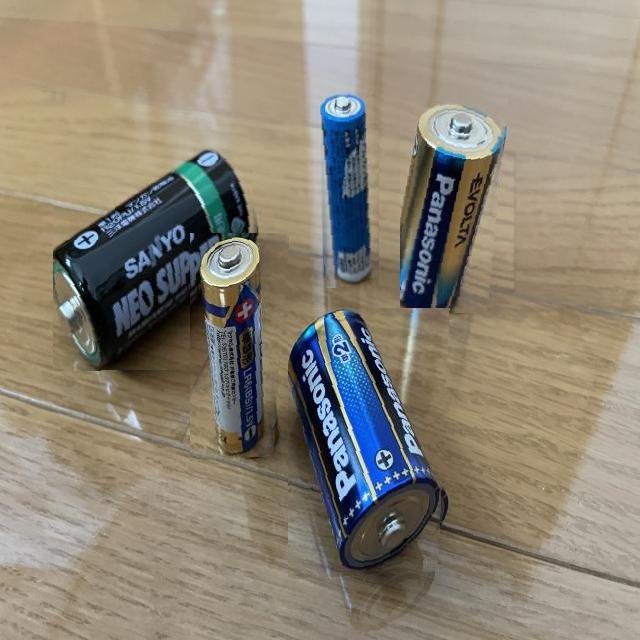battery: (54, 144, 266, 371), (288, 308, 450, 580), (400, 85, 508, 314), (190, 233, 290, 462), (314, 92, 379, 288)
